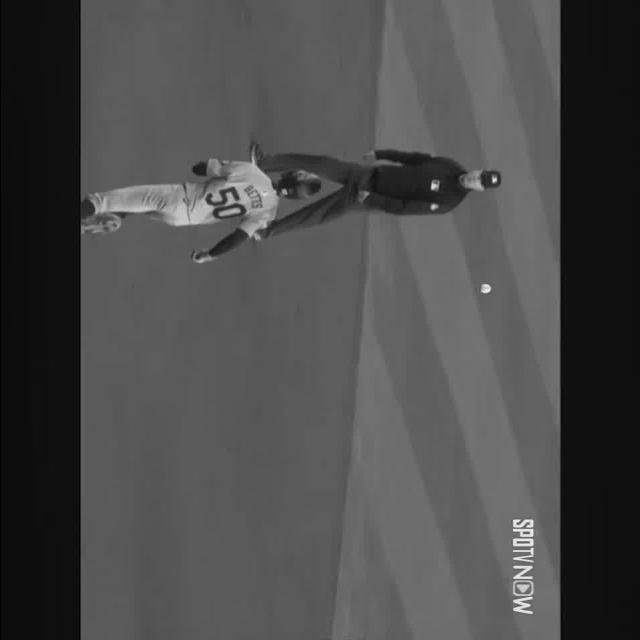baseball: (480, 284, 491, 294)
shoe: (78, 214, 122, 235), (248, 144, 265, 174)
